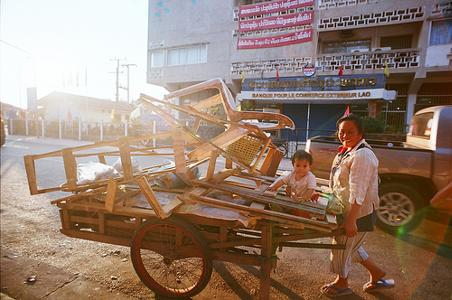person: (318, 115, 398, 295)
